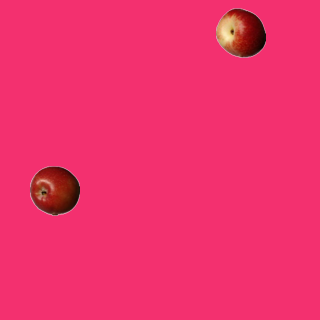Apple Braeburn: (29, 165, 79, 215)
Nectarine: (215, 7, 265, 57)
